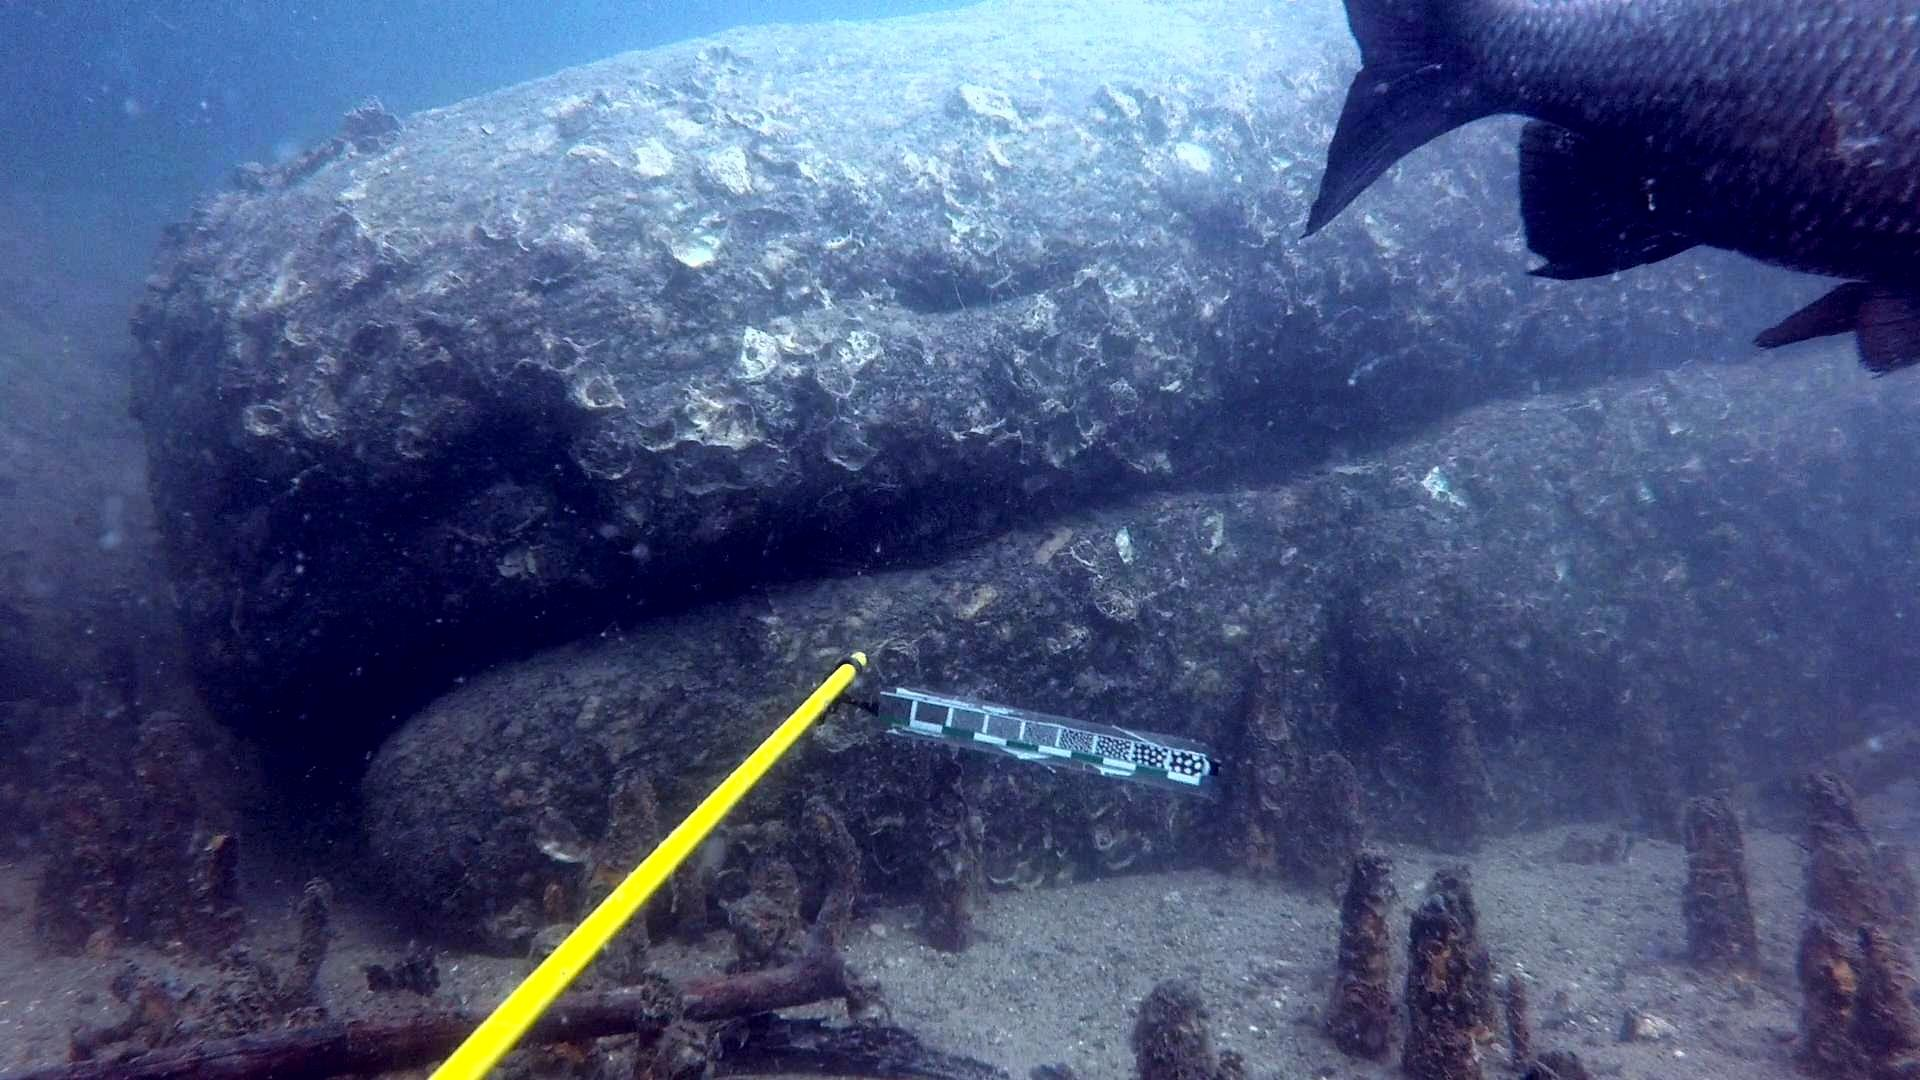acanthopagrus palmaris: (1300, 0, 1920, 381)
